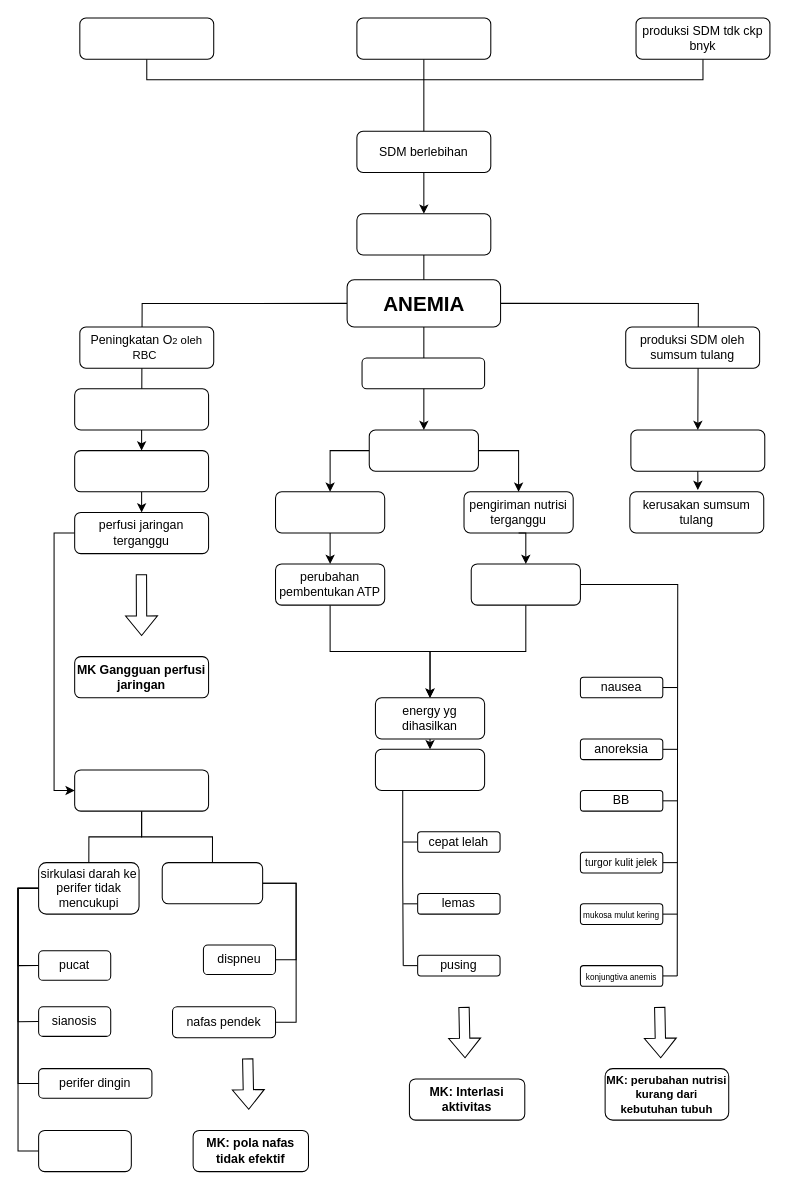
Some shapes in this 788 by 1190 pixel diagram are drawn without their labels. The centre of each missing label's shape, as x and y in pixels:
aliran darah ke organ vital & jar: (x=141, y=409)
Defisiensi nutrisi: (x=525, y=584)
hipoksia: (x=423, y=373)
Kadar Hb: (x=423, y=234)
Kapilaveril lambat: (x=84, y=1150)
kelemahan fisik: (x=429, y=769)
kerusakan SDM: (x=423, y=38)
Kompensasi sumsum tulang memproduksi SDM: (x=697, y=450)
O 2 & nutrisi tdk di transport scr akurat: (x=141, y=471)
pengiriman: (x=329, y=512)
perdarahan: (x=146, y=38)
pola nafas terganggu: (x=212, y=883)
sirkulasi O 2 terganggu: (x=141, y=790)
suplai O2/ Na ke jaringan: (x=423, y=450)
